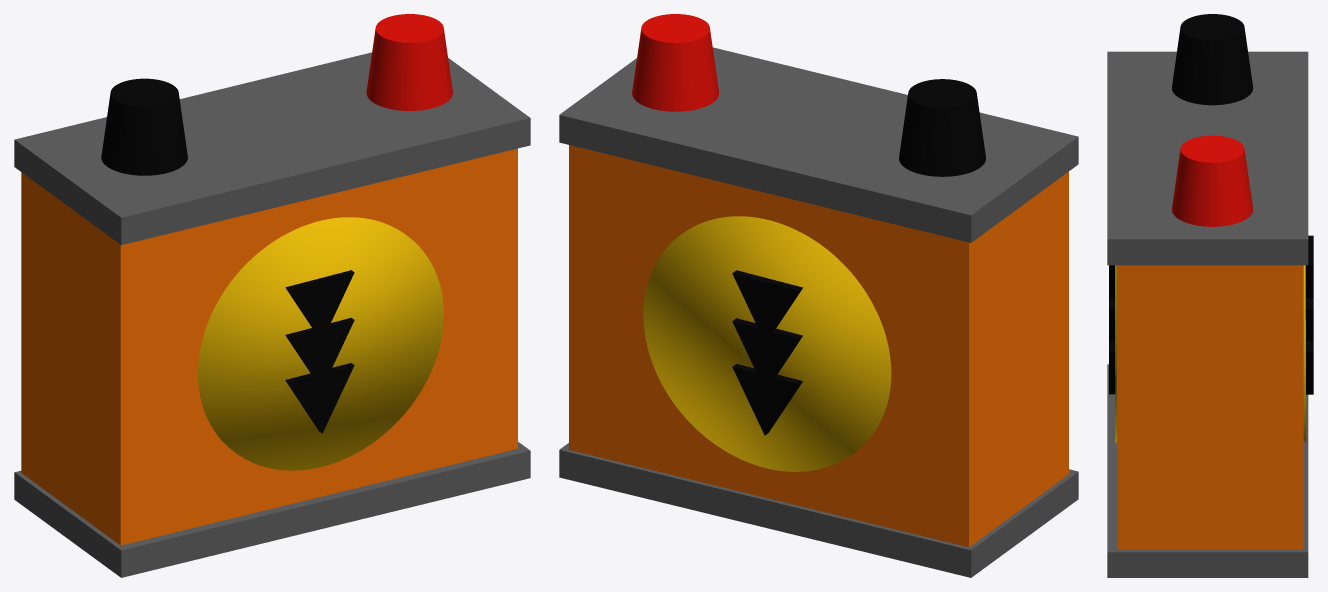
File: bateria.fbx
3 renders of one model, left to right at view 1: azimuth 30°, elevation 25°; view 2: azimuth 150°, elevation 25°; view 3: azimuth 270°, elevation 25°, orthographic. The views are drawn at different scales.
Parts seen in each view (by area): view 1: Cylinder.004; view 2: Cylinder.004; view 3: Cylinder.004.
Boxes of the visible parts, x1,y1,x2,y2 form: Cylinder.004: (14, 14, 530, 577); Cylinder.004: (559, 14, 1078, 577); Cylinder.004: (1107, 14, 1313, 577).
Bounding box in the file's own units: 173 × 172 × 80.59.
